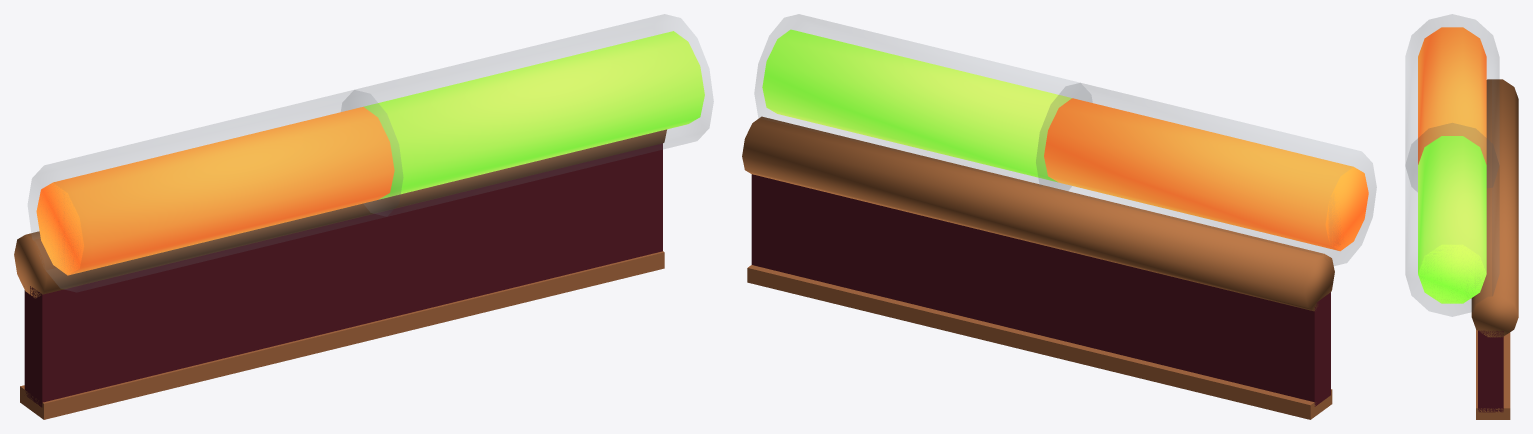
The model's file is Deck_S_Frag_girder_r.glb.
3 renders of one model, left to right at view 1: azimuth 30°, elevation 25°; view 2: azimuth 150°, elevation 25°; view 3: azimuth 270°, elevation 25°, orthographic. The views are drawn at different scales.
Parts seen in each view (by area): view 1: CP_Deck_S_Frag_girder_r; view 2: CP_Deck_S_Frag_girder_r; view 3: CP_Deck_S_Frag_girder_r.
Boxes of the visible parts, x1,y1,x2,y2 form: CP_Deck_S_Frag_girder_r: (14, 14, 713, 419); CP_Deck_S_Frag_girder_r: (742, 14, 1376, 419); CP_Deck_S_Frag_girder_r: (1405, 14, 1518, 419).
Size of the model in its own units: 2.4 by 0.97 by 0.53.
